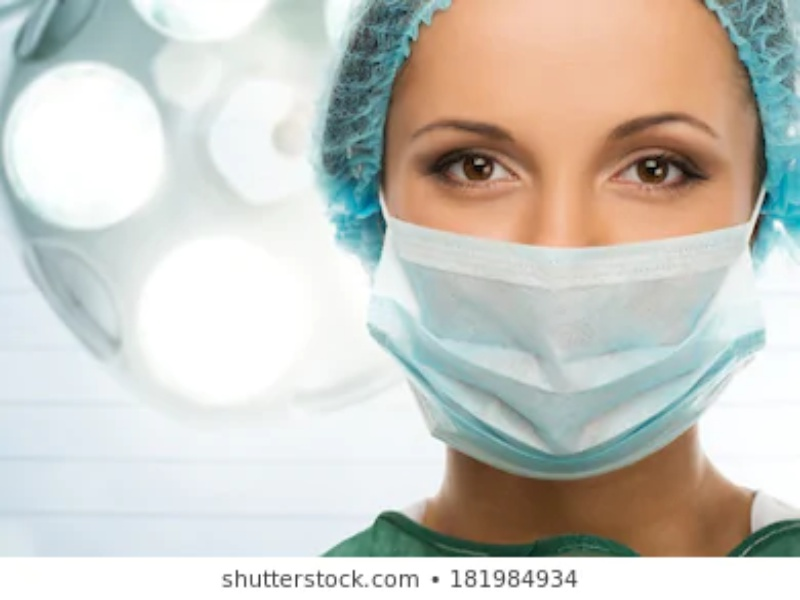ManaoArotava: (315, 5, 776, 508)
